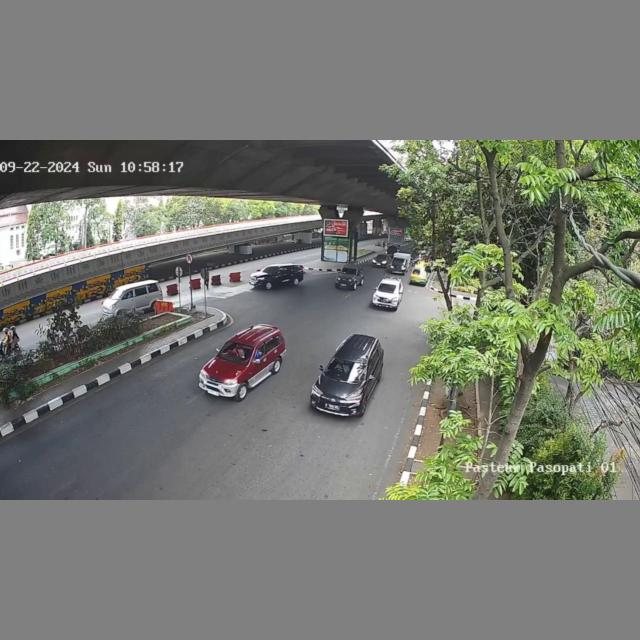windshield: (325, 357, 367, 381), (219, 341, 255, 361), (378, 284, 398, 293)
